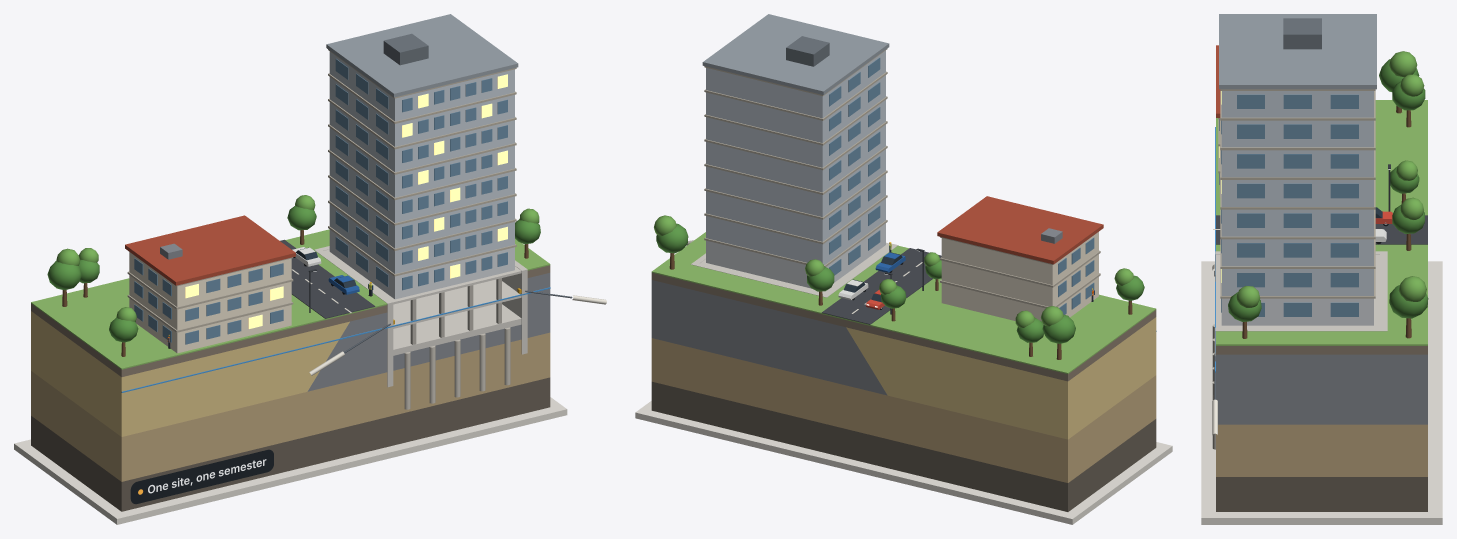
The model's file is egy-telek-en.glb.
3 views of the same model, side by side, from view 1: azimuth 30°, elevation 25°; view 2: azimuth 150°, elevation 25°; view 3: azimuth 270°, elevation 25° (orthographic). The views are drawn at different scales.
Parts seen in each view (by area): view 1: talaj_m_c4ad84, B_szint_m_c9d3dc (×7), talaj_m_e0c98f, talaj_m_6f675c, B_szint_m_6f93ad (×8), talaj_m_8fbf6a, bteto_m_9aa3ab, talaj_m_e9e6df, A_szint_m_f1e8d6 (×3), ateto_m_b5533c, talaj_m_8a8f96, pince_m_d9d6cf (+12 smaller); view 2: B_szint_m_c9d3dc (×7), talaj_m_c4ad84, talaj_m_e0c98f, talaj_m_6f675c, talaj_m_8fbf6a, talaj_m_8a8f96, A_szint_m_f1e8d6 (×3), bteto_m_9aa3ab, talaj_m_e9e6df, ateto_m_b5533c, talaj_m_8f8172, talaj_m_5a9647 (+5 smaller); view 3: B_szint_m_c9d3dc (×7), talaj_m_8a8f96, talaj_m_c4ad84, bteto_m_9aa3ab, talaj_m_8fbf6a, talaj_m_e9e6df, B_szint_m_6f93ad (×8), talaj_m_6f675c, B_szint_m_bdb6a8 (×8), talaj_m_5a9647, talaj_m_74ad55, B_szint_m_d9dde2 (+6 smaller).
Part boxes in pixels (box(x1,y1,x2,y2)): talaj_m_c4ad84: box(31, 332, 550, 481); B_szint_m_c9d3dc (×7): box(329, 51, 514, 273); talaj_m_e0c98f: box(31, 311, 349, 436); talaj_m_6f675c: box(31, 377, 550, 511); B_szint_m_6f93ad (×8): box(335, 59, 507, 290); talaj_m_8fbf6a: box(31, 229, 550, 369); bteto_m_9aa3ab: box(326, 14, 518, 97); talaj_m_e9e6df: box(14, 397, 567, 524); A_szint_m_f1e8d6 (×3): box(129, 252, 291, 353); ateto_m_b5533c: box(125, 215, 295, 285); talaj_m_8a8f96: box(307, 273, 550, 391); pince_m_d9d6cf: box(324, 249, 521, 355); B_szint_m_c9d3dc (×7): box(706, 50, 885, 265); talaj_m_c4ad84: box(651, 338, 1156, 482); talaj_m_e0c98f: box(846, 317, 1156, 439); talaj_m_6f675c: box(651, 381, 1156, 511); talaj_m_8fbf6a: box(651, 232, 1156, 373); talaj_m_8a8f96: box(651, 280, 887, 395); A_szint_m_f1e8d6 (×3): box(941, 232, 1098, 324); bteto_m_9aa3ab: box(702, 14, 889, 94); talaj_m_e9e6df: box(635, 401, 1172, 524); ateto_m_b5533c: box(937, 196, 1103, 264); talaj_m_8f8172: box(651, 273, 1156, 381); talaj_m_5a9647: box(656, 223, 1144, 343); B_szint_m_c9d3dc (×7): box(1221, 91, 1373, 295); talaj_m_8a8f96: box(1216, 354, 1427, 424); talaj_m_c4ad84: box(1216, 424, 1427, 476); bteto_m_9aa3ab: box(1219, 14, 1376, 89); talaj_m_8fbf6a: box(1216, 100, 1427, 345); talaj_m_e9e6df: box(1201, 261, 1442, 524); B_szint_m_6f93ad (×8): box(1221, 94, 1358, 316); talaj_m_6f675c: box(1216, 477, 1427, 511); B_szint_m_bdb6a8 (×8): box(1220, 89, 1375, 298); talaj_m_5a9647: box(1228, 59, 1428, 321); talaj_m_74ad55: box(1236, 51, 1426, 307); B_szint_m_d9dde2: box(1221, 298, 1373, 325).
Size of the model in its own units: 0.4618 by 0.3291 by 0.1667.
58 materials, 1 textured.
